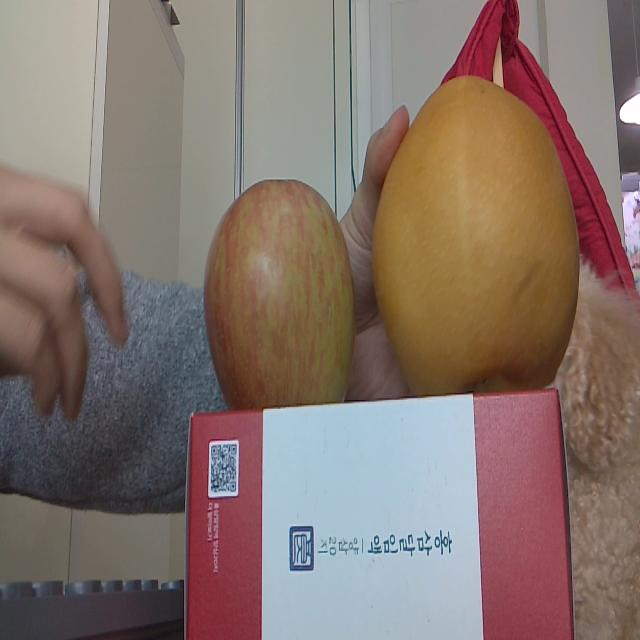apple: (206, 178, 354, 407)
pear: (374, 74, 581, 390)
